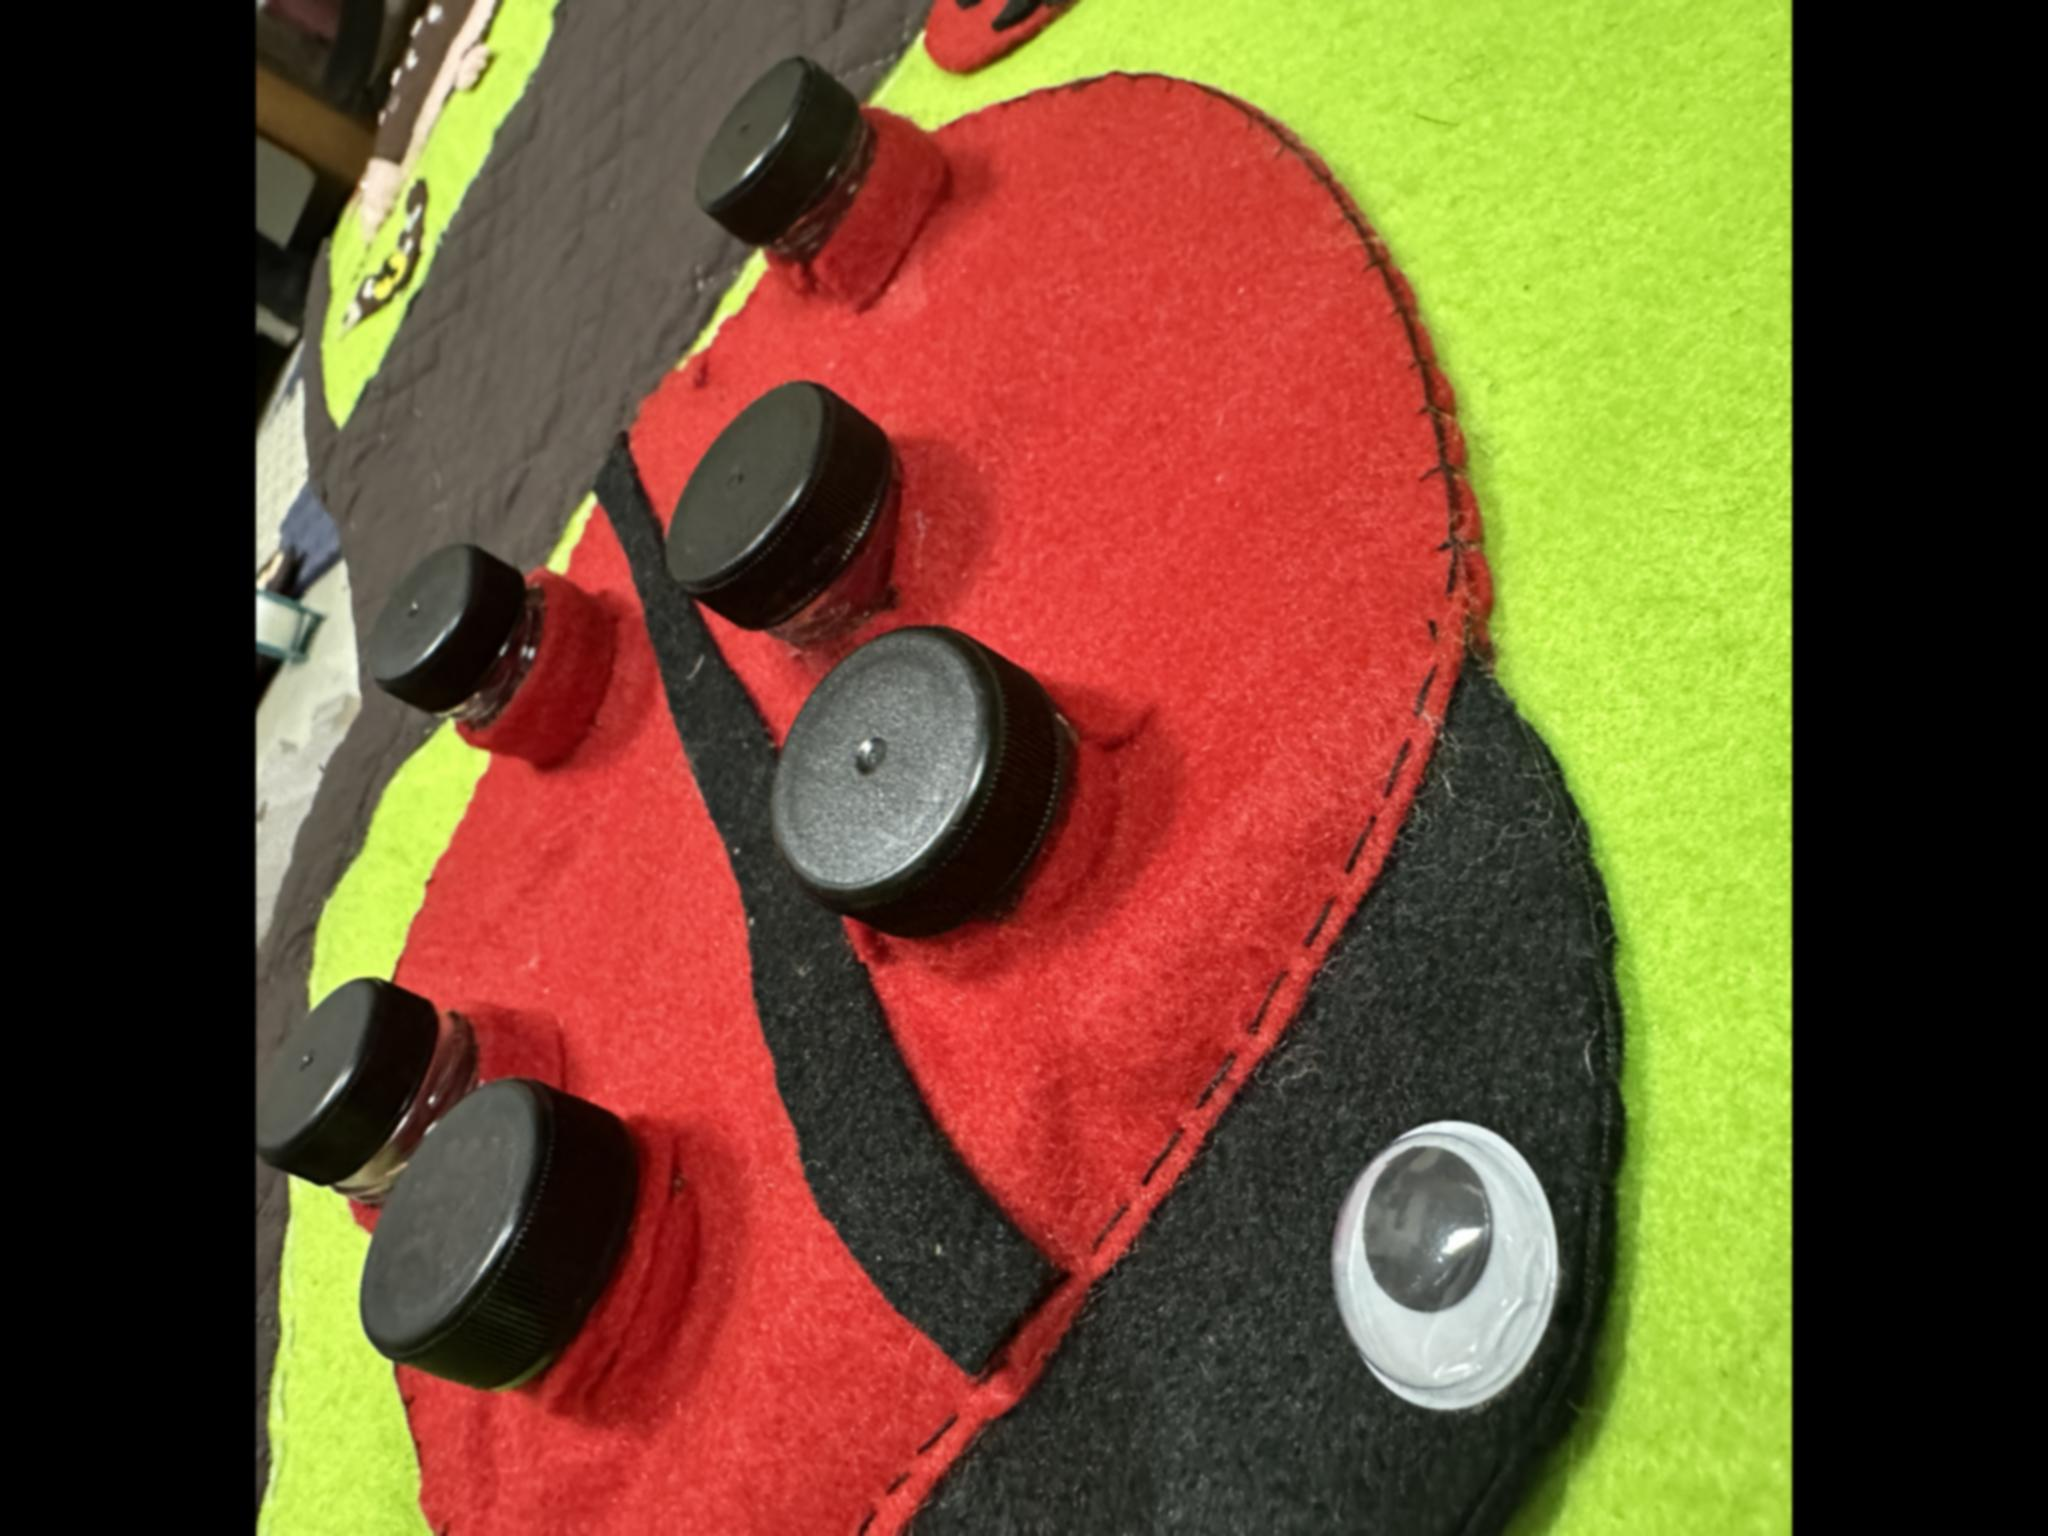cap_ng: (650, 368, 916, 658), (256, 986, 532, 1236)
cap_ok: (763, 624, 1118, 965), (371, 1099, 724, 1420), (692, 44, 956, 316), (358, 544, 634, 771)
